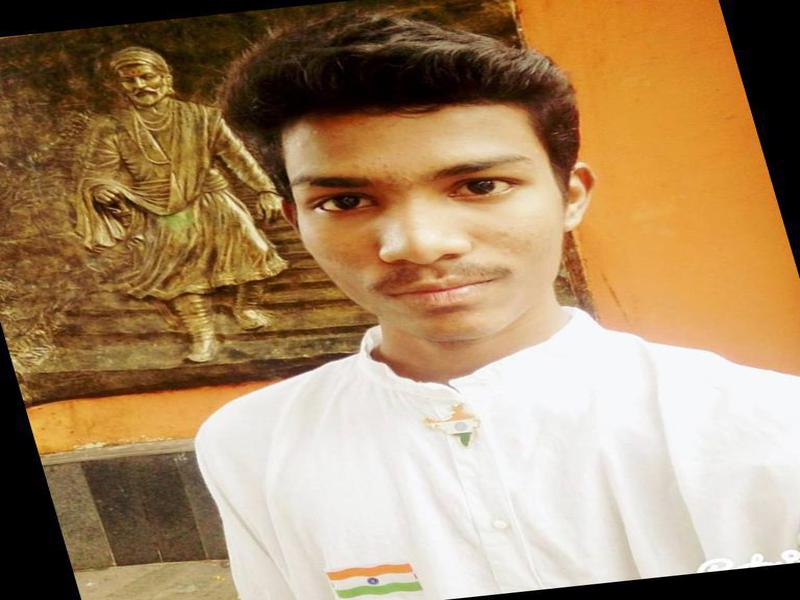without_mask: (274, 102, 568, 355)
